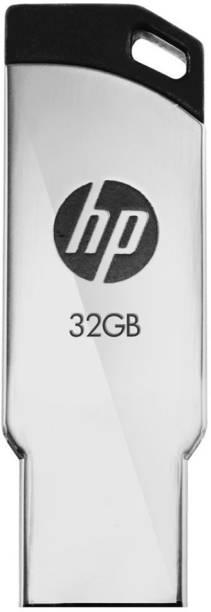pendrive: (6, 7, 197, 612)
